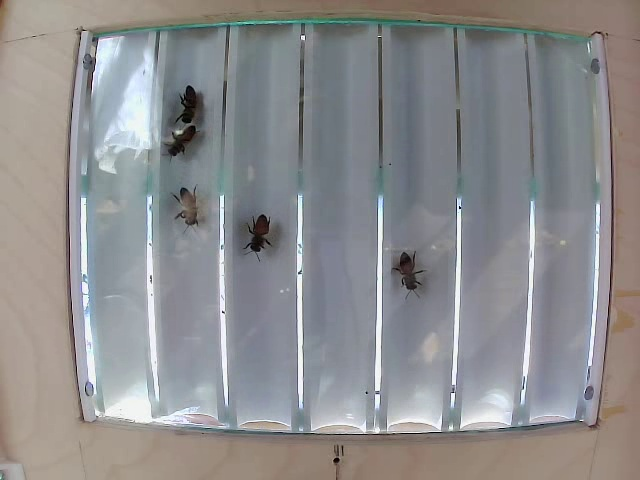bee: (243, 203, 284, 263), (167, 178, 208, 229), (169, 81, 208, 128), (397, 253, 431, 297), (161, 123, 196, 163)
